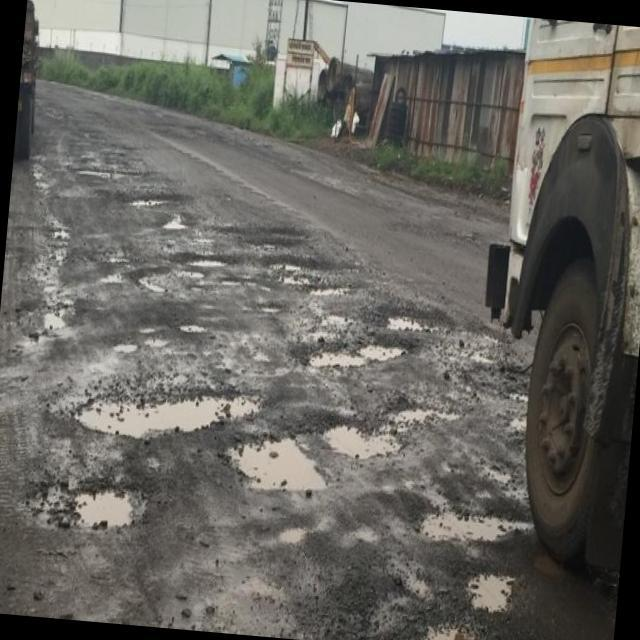Pothole: (77, 395, 260, 440), (322, 407, 456, 459), (228, 436, 326, 493), (421, 508, 527, 542), (309, 345, 404, 371), (73, 490, 133, 528), (468, 573, 513, 612), (423, 627, 468, 640), (388, 317, 428, 330)
